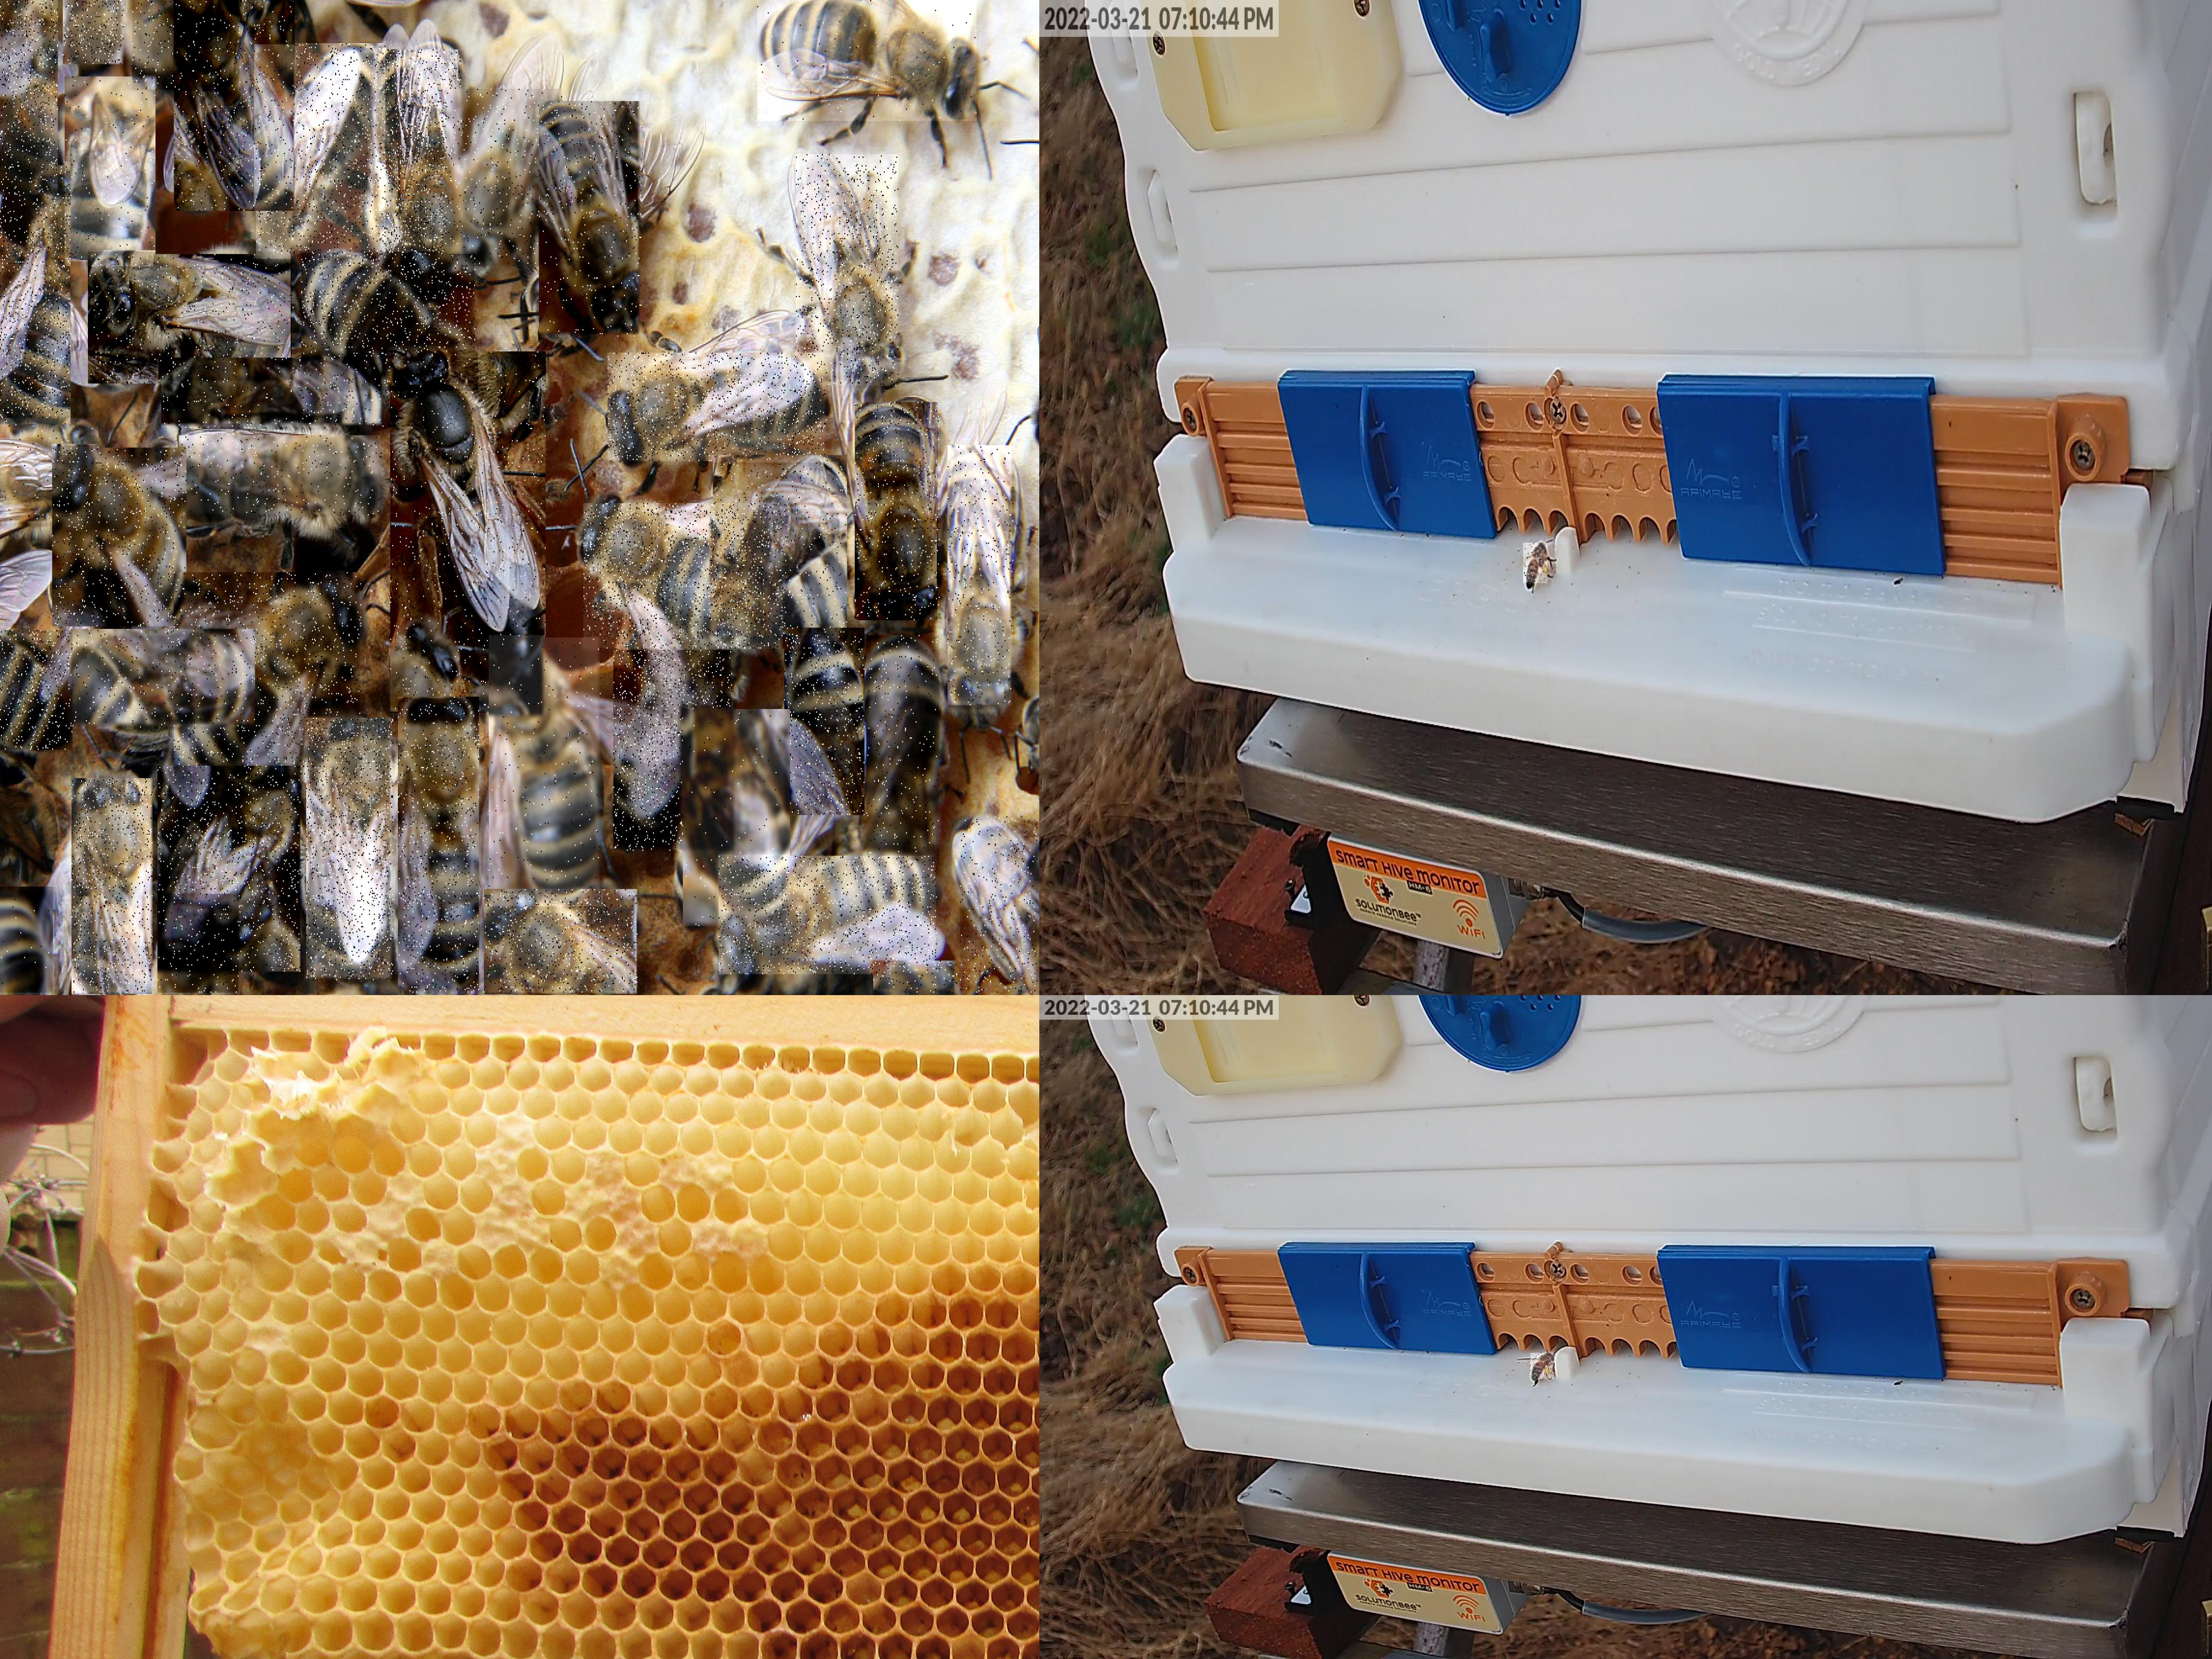bee: (175, 572, 363, 784), (490, 638, 602, 906), (584, 503, 788, 650), (157, 766, 301, 973), (256, 44, 388, 259), (757, 0, 978, 122), (89, 254, 295, 385), (719, 856, 939, 976), (175, 0, 298, 212), (713, 455, 848, 637), (540, 102, 643, 339), (302, 255, 478, 394), (52, 447, 188, 628), (614, 651, 734, 853), (398, 701, 481, 995), (609, 353, 829, 463), (796, 155, 900, 387), (683, 710, 791, 929), (307, 719, 395, 983), (447, 89, 564, 268), (855, 402, 942, 622), (0, 167, 72, 430), (71, 630, 256, 730), (382, 50, 463, 277), (72, 778, 154, 994), (949, 445, 1015, 707), (65, 78, 156, 266), (867, 635, 940, 865), (180, 436, 384, 518), (484, 889, 638, 994), (162, 358, 386, 430), (784, 628, 866, 816), (960, 816, 1038, 994), (0, 0, 59, 196), (0, 419, 100, 528), (0, 630, 73, 751), (157, 894, 240, 994), (132, 0, 215, 91), (0, 887, 54, 994), (63, 0, 126, 65), (874, 962, 959, 995)
pollenbee: (1524, 543, 1549, 584), (1530, 1353, 1555, 1380)
queen: (390, 352, 547, 717)
